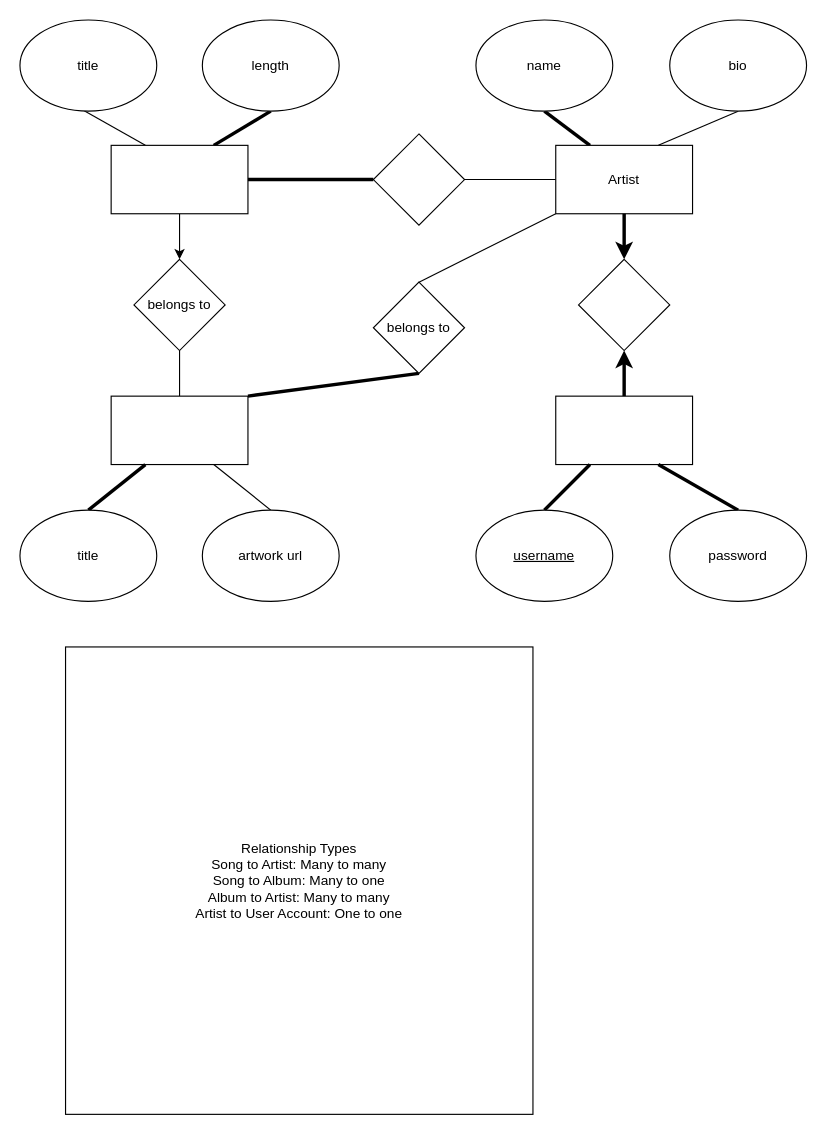
Some shapes in this 827 by 1134 pixel diagram are drawn without their labels. The box of each missing label's shape, as (x1, y1, x2, y2) in pixels:
Album: (110, 395, 248, 465)
has a: (577, 258, 670, 351)
Song: (110, 144, 248, 214)
User Account: (555, 395, 693, 465)
written by: (372, 133, 465, 225)
